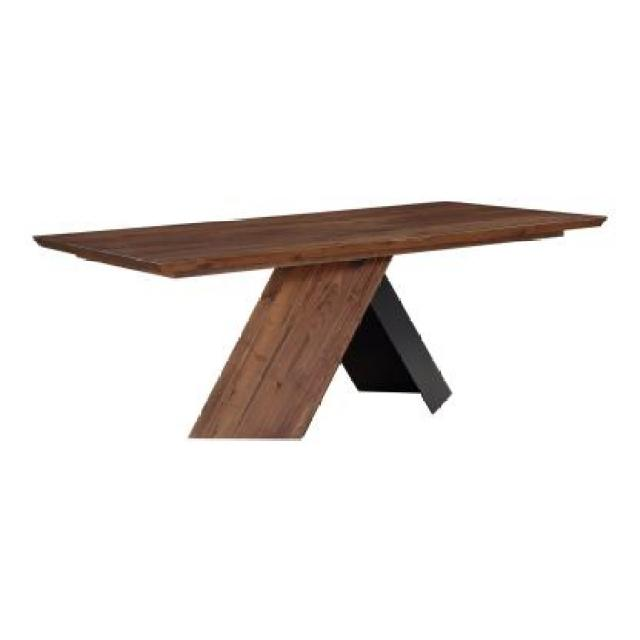table: (34, 200, 615, 434)
